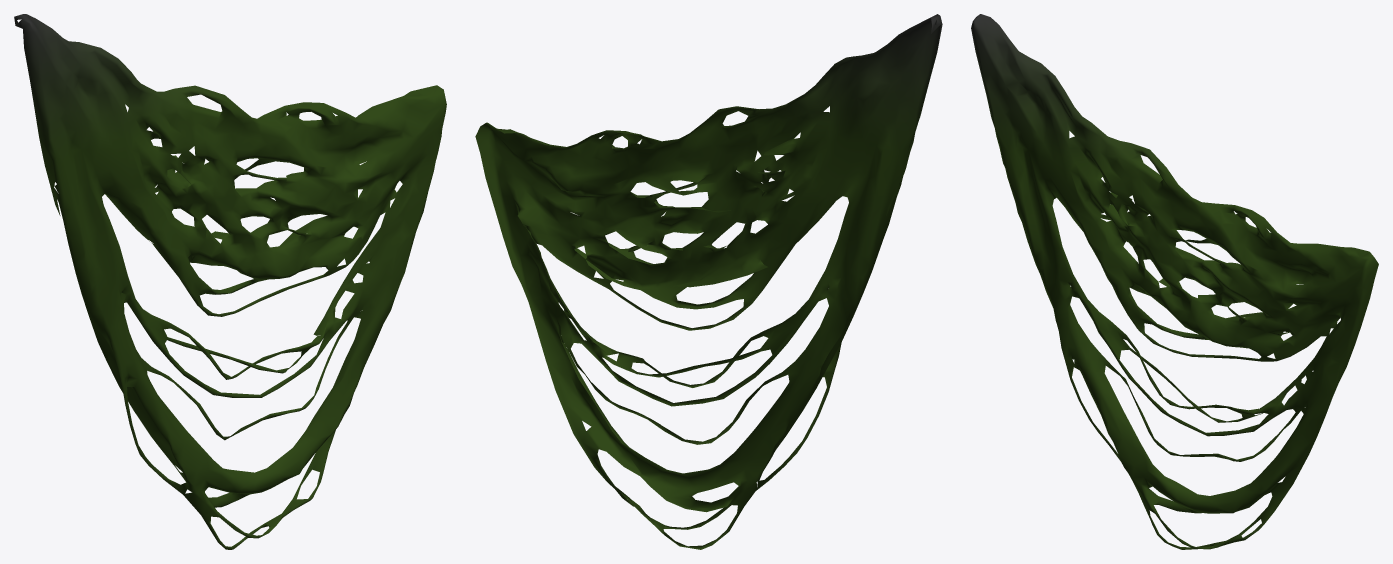
Rendered from SM_Sewer_Slime_02.fbx.
The picture shows the model from 3 angles, left to right: view 1: azimuth 30°, elevation 25°; view 2: azimuth 150°, elevation 25°; view 3: azimuth 330°, elevation 25°; orthographic projection. The views are drawn at different scales.
Parts seen in each view (by area): view 1: attribadjustcolor11; view 2: attribadjustcolor11; view 3: attribadjustcolor11.
Boxes of the visible parts, x1=… form: attribadjustcolor11: x1=14, y1=14, x2=446, y2=549; attribadjustcolor11: x1=475, y1=14, x2=942, y2=549; attribadjustcolor11: x1=971, y1=14, x2=1378, y2=549.
Bounding box in the file's own units: 354 × 449 × 53.68.
